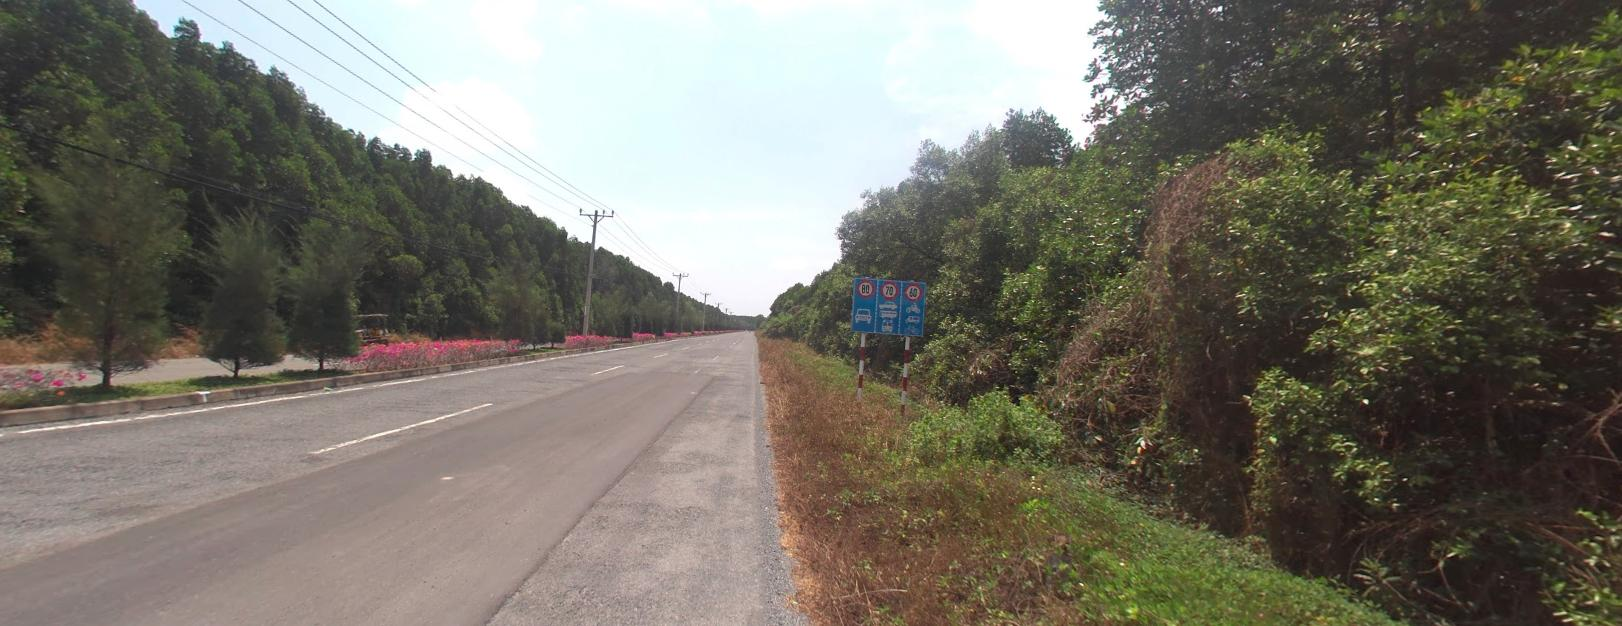Gioi han toc do: (904, 279, 922, 297), (880, 278, 897, 297), (857, 278, 873, 295), (880, 280, 897, 297), (904, 282, 921, 299), (857, 278, 874, 294)
